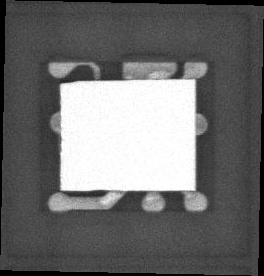DIE_BROKEN: (58, 79, 80, 84)
